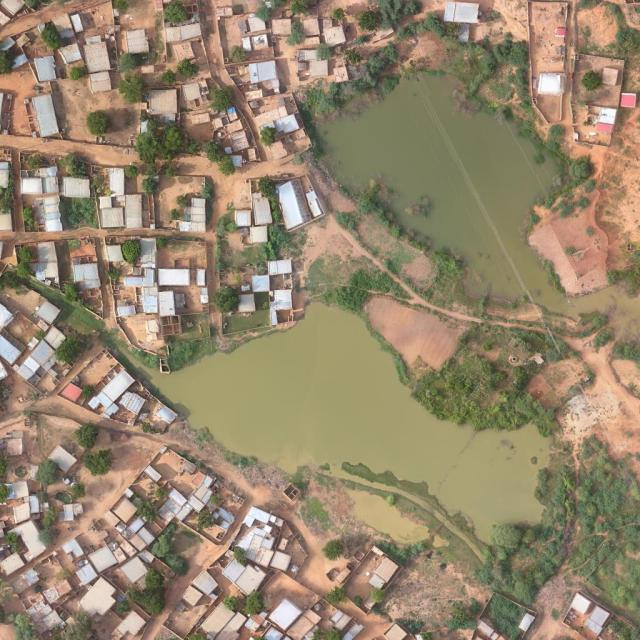building: (32, 93, 60, 138)
greenland: (408, 339, 567, 451), (442, 34, 532, 123)
unmetalled_road: (0, 132, 140, 170)
wetland: (142, 259, 584, 556), (146, 260, 584, 556), (307, 34, 634, 347), (322, 432, 545, 540)
